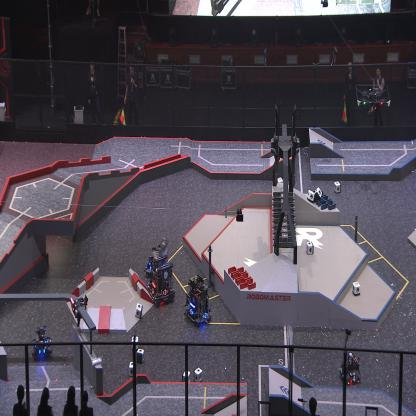car: (184, 273, 216, 326), (146, 254, 176, 305), (144, 238, 170, 278), (31, 324, 53, 362), (338, 352, 362, 384)
